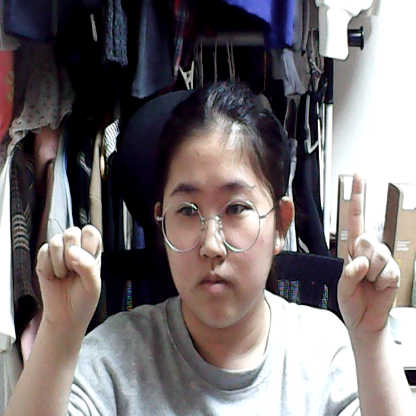Finger_0: (25, 196, 116, 344)
Finger_1: (327, 170, 408, 342)
